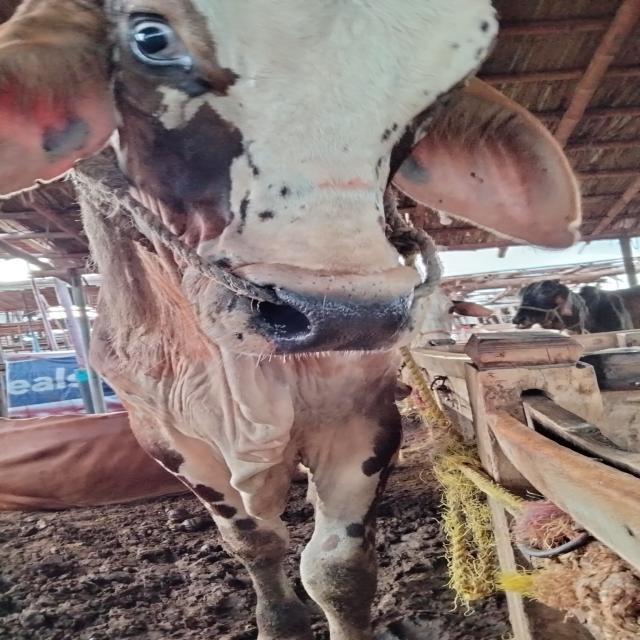muzzles: (233, 276, 423, 355)
